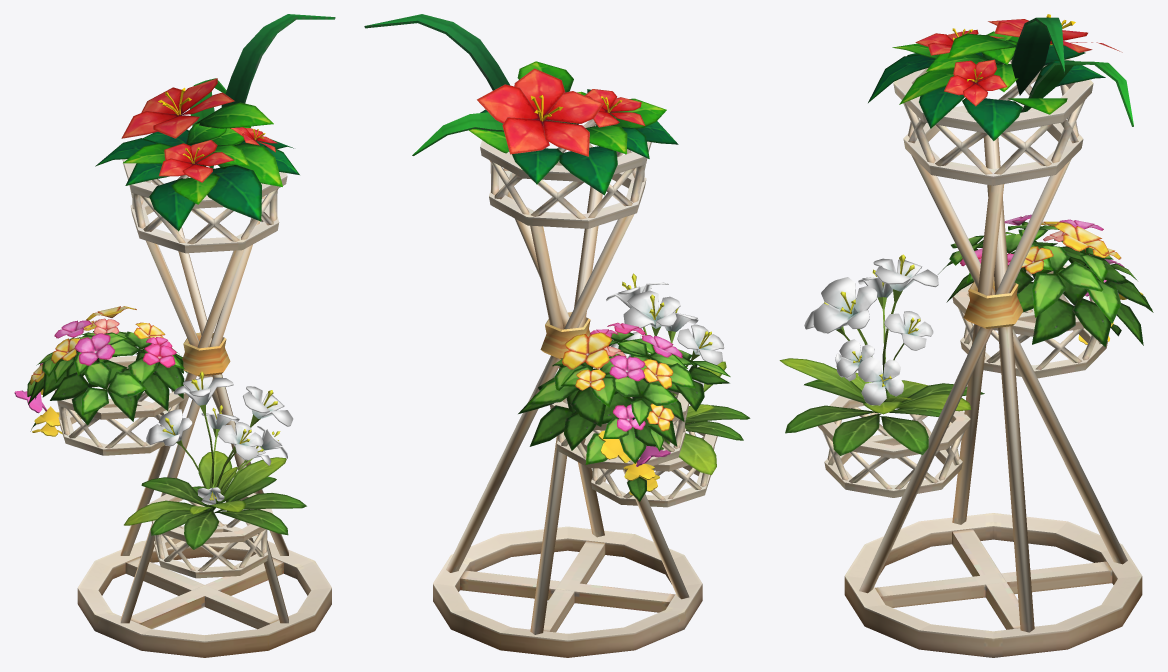
File: my_sunshineresort_01_flowerpot_01.glb
3 renders of one model, left to right at view 1: azimuth 30°, elevation 25°; view 2: azimuth 150°, elevation 25°; view 3: azimuth 270°, elevation 25°, orthographic. The views are drawn at different scales.
Visible parts, largest first — view 1: my_sunshineresort_01_flowerpot_01; view 2: my_sunshineresort_01_flowerpot_01; view 3: my_sunshineresort_01_flowerpot_01.
Boxes of the visible parts, <box> form: my_sunshineresort_01_flowerpot_01: <box>14,14,335,657</box>; my_sunshineresort_01_flowerpot_01: <box>364,14,750,657</box>; my_sunshineresort_01_flowerpot_01: <box>779,14,1153,657</box>.
Size of the model in its own units: 0.00575 by 0.00983 by 0.00526.
Materials: 1 (1 with a texture image).
